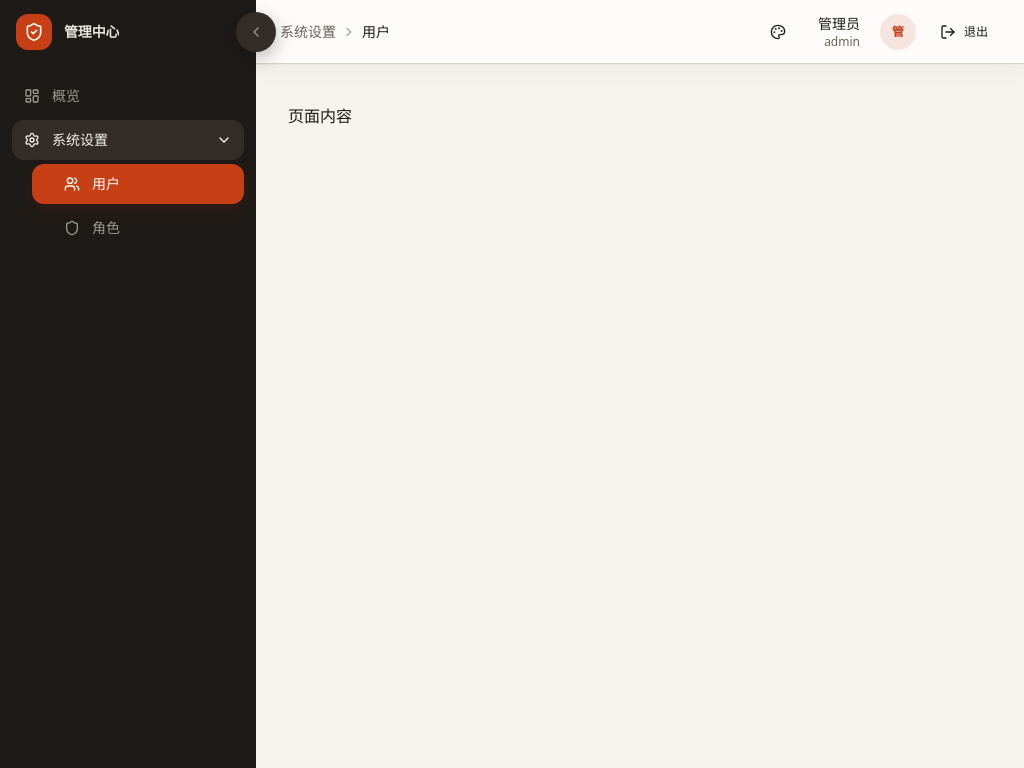
app shell › renders nested system settings menus for the current role
expect the navigation bar named "面包屑" shows "系统设置": met, box [280,22,336,40]
expect the navigation bar named "面包屑" shows "用户": met, box [362,22,390,40]
Step 1. Click the button "系统设置" → (128, 140), box [12,120,244,160]
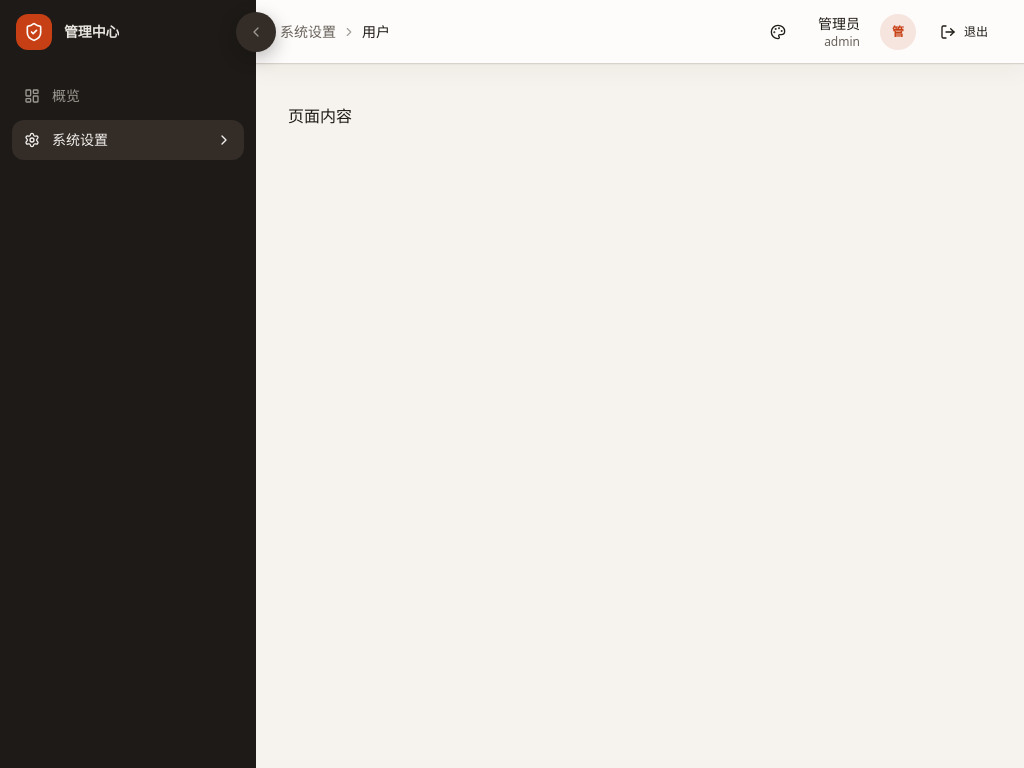
expect the button "系统设置" is collapsed: met
Step 2. Click the button "系统设置" → (128, 140), box [12,120,244,160]
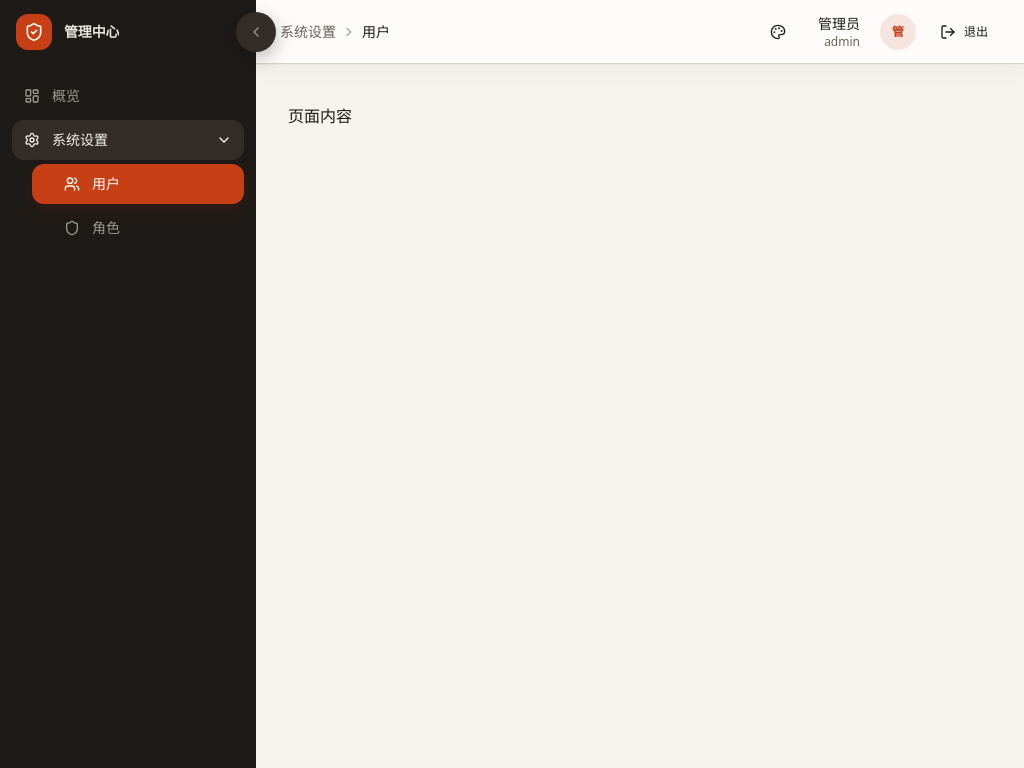
expect the button "系统设置" is expanded: met, box [12,120,244,160]
